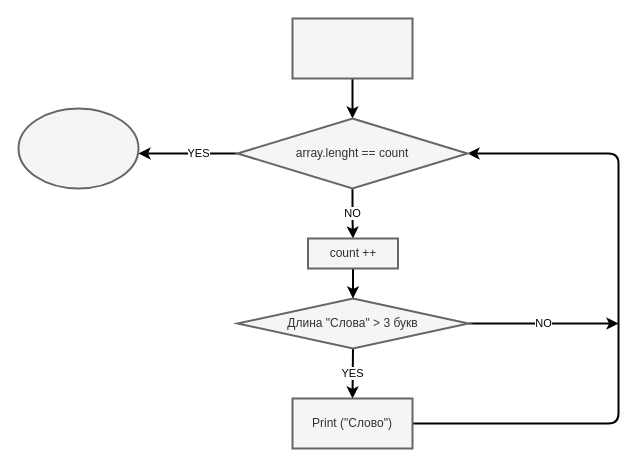
Image size: 644x466. Some labels were removed from this diagram. Each missing label, with the box of its shape:
END: (17, 107, 139, 189)
Массив слов array count = 0: (291, 17, 413, 79)
